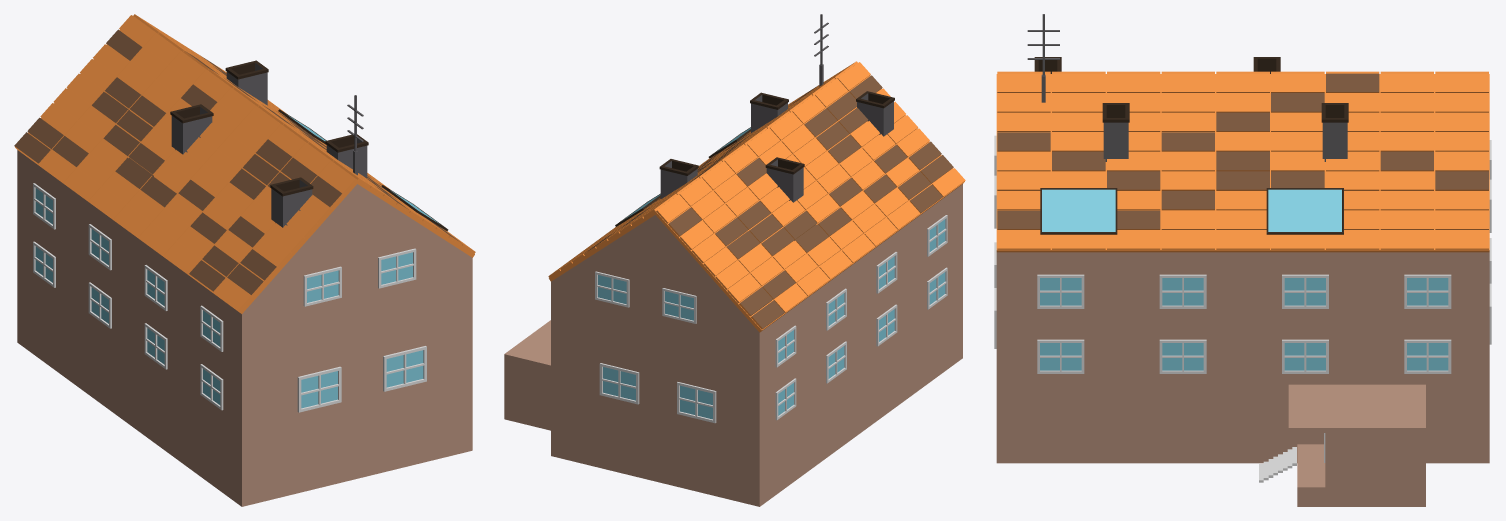
Rendered from house2_H.fbx.
3 views of the same model, side by side, from view 1: azimuth 30°, elevation 25°; view 2: azimuth 150°, elevation 25°; view 3: azimuth 270°, elevation 25° (orthographic). The views are drawn at different scales.
Visible parts, largest first — view 1: Cube.042, Cube.052, Cube.050, Cube.056, Cube.055, Cube.054, Cube.049, Cube.045; view 2: Cube.042, Cube.052, Cube.043, Cube.058, Cube.056, Cube.055, Cube.054, Cube.057, Cube.045; view 3: Cube.042, Cube.043, Cube.044, Cube.048, Cube.051, Cube.053, Cube.045, Cube.054, Cube.046.
Boxes of the visible parts, bbox=[...] form: Cube.042: bbox=[14, 14, 475, 506]; Cube.052: bbox=[242, 184, 472, 314]; Cube.050: bbox=[297, 346, 426, 412]; Cube.056: bbox=[33, 241, 223, 410]; Cube.055: bbox=[33, 183, 223, 351]; Cube.054: bbox=[170, 104, 313, 227]; Cube.049: bbox=[303, 248, 416, 306]; Cube.045: bbox=[225, 60, 368, 178]; Cube.042: bbox=[548, 61, 965, 506]; Cube.052: bbox=[551, 215, 759, 332]; Cube.043: bbox=[504, 320, 550, 430]; Cube.058: bbox=[599, 363, 716, 423]; Cube.056: bbox=[775, 267, 947, 420]; Cube.055: bbox=[775, 215, 947, 367]; Cube.054: bbox=[765, 91, 894, 202]; Cube.057: bbox=[595, 271, 696, 323]; Cube.045: bbox=[659, 92, 788, 198]; Cube.042: bbox=[996, 71, 1489, 463]; Cube.043: bbox=[1288, 384, 1425, 506]; Cube.044: bbox=[1037, 274, 1451, 308]; Cube.048: bbox=[1037, 339, 1451, 373]; Cube.051: bbox=[1040, 188, 1117, 234]; Cube.053: bbox=[1266, 188, 1343, 234]; Cube.045: bbox=[1102, 103, 1348, 161]; Cube.054: bbox=[1034, 57, 1280, 73]; Cube.046: bbox=[1259, 447, 1296, 482].
Bounding box in the file's own units: 15.36 × 19.17 × 16.93.
